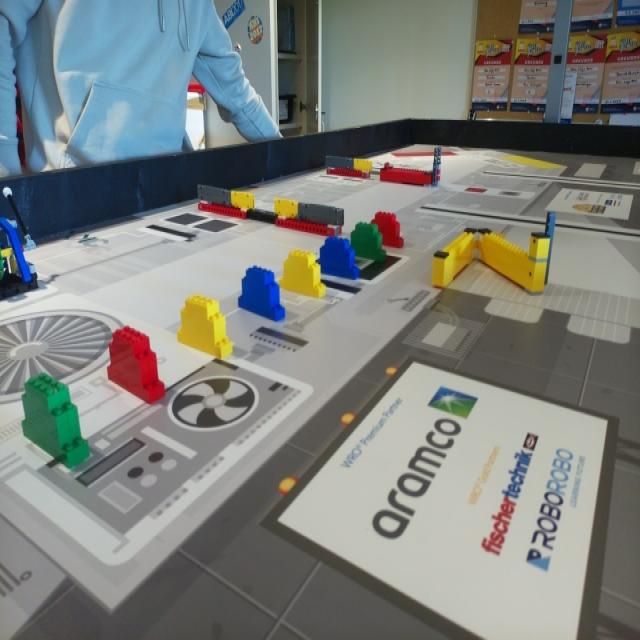blau: (238, 268, 286, 319), (319, 238, 360, 284)
gruen: (20, 371, 93, 468), (352, 221, 384, 261)
rot: (104, 324, 166, 406), (372, 212, 406, 246)
yellow: (180, 296, 233, 359), (284, 251, 325, 299)
